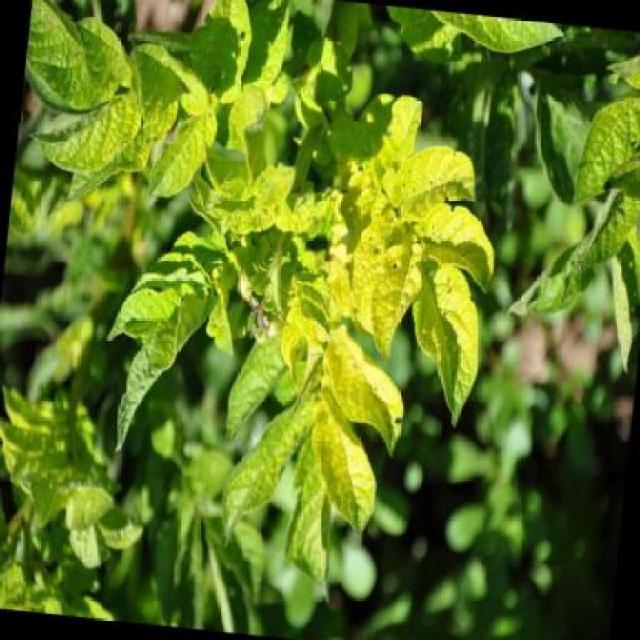Healthy Leaf: (397, 270, 506, 424), (141, 57, 233, 228), (234, 151, 334, 306), (182, 127, 302, 250), (31, 71, 154, 188), (295, 394, 389, 542), (319, 316, 419, 451), (362, 134, 486, 237), (102, 262, 203, 365), (361, 223, 426, 374)
